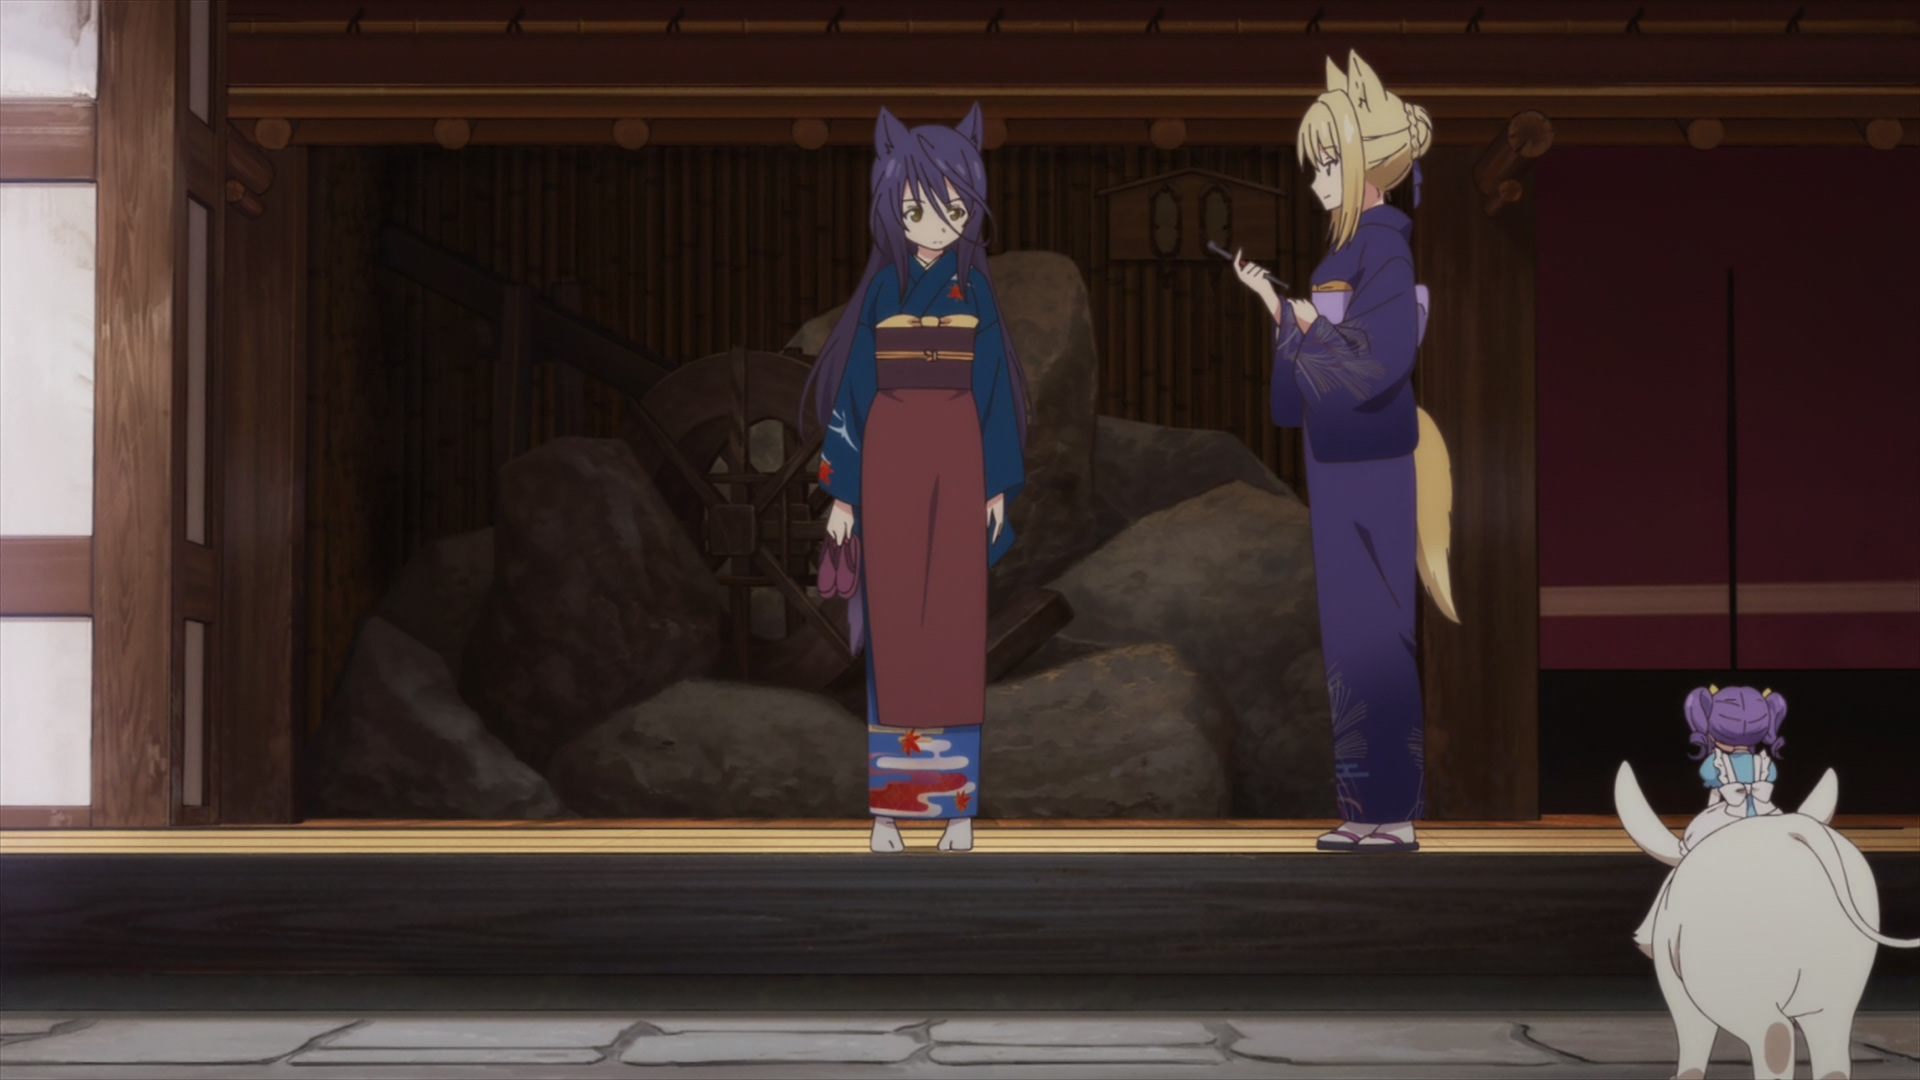桐: (1233, 45, 1460, 851)
瓜之介: (1611, 760, 1920, 1080)
皋: (798, 102, 1026, 855)
阿菊: (1681, 686, 1785, 857)
